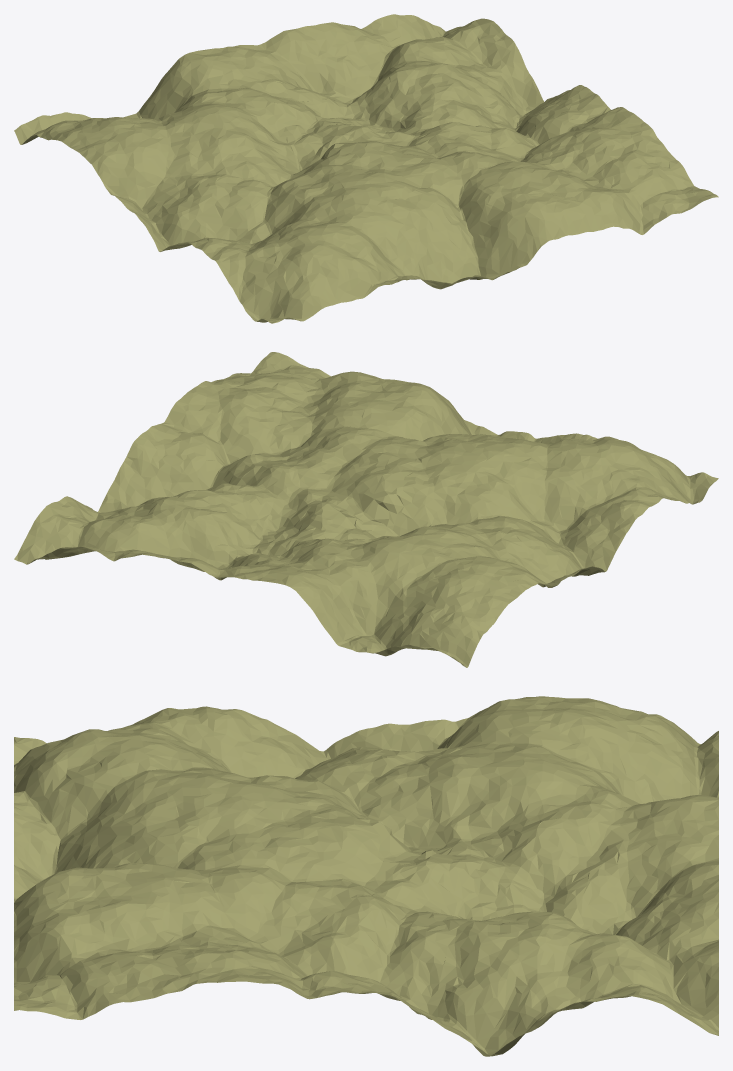
Rendered from 地宫天花板.fbx.
The picture shows the model from 3 angles, top to bottom: view 1: azimuth 30°, elevation 25°; view 2: azimuth 150°, elevation 25°; view 3: azimuth 270°, elevation 25°; orthographic projection. The views are drawn at different scales.
Parts seen in each view (by area): view 1: TerrainMesh1; view 2: TerrainMesh1; view 3: TerrainMesh1.
Part boxes in pixels (x1,y1,x2,y2): TerrainMesh1: [14, 14, 718, 323]; TerrainMesh1: [14, 352, 718, 667]; TerrainMesh1: [14, 696, 718, 1056].
Size of the model in its own units: 53801 by 7637 by 53801.
